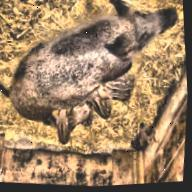boar: (0, 0, 185, 161)
